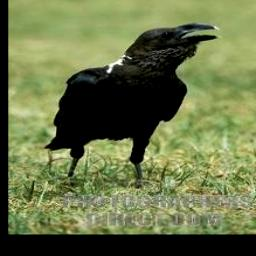Crow: (39, 18, 227, 193)
